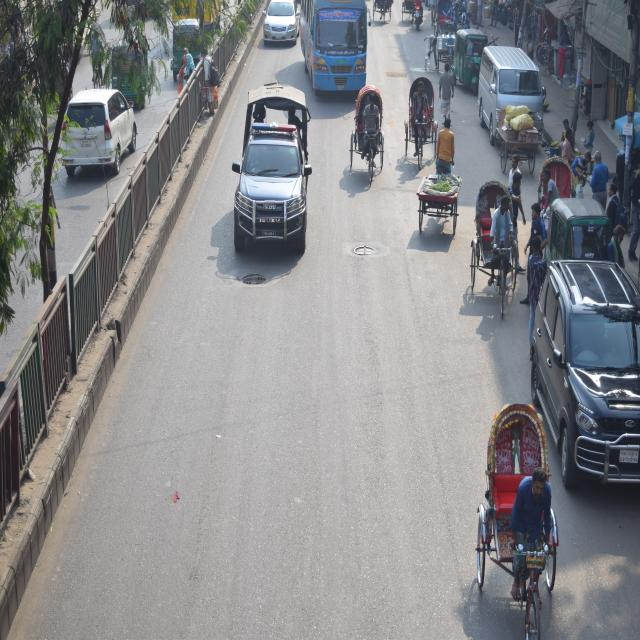bus: (298, 0, 366, 93)
car: (540, 251, 640, 499), (62, 84, 140, 171), (262, 0, 301, 44)
microbus: (473, 37, 543, 142)
pickup-van: (235, 84, 307, 256)
